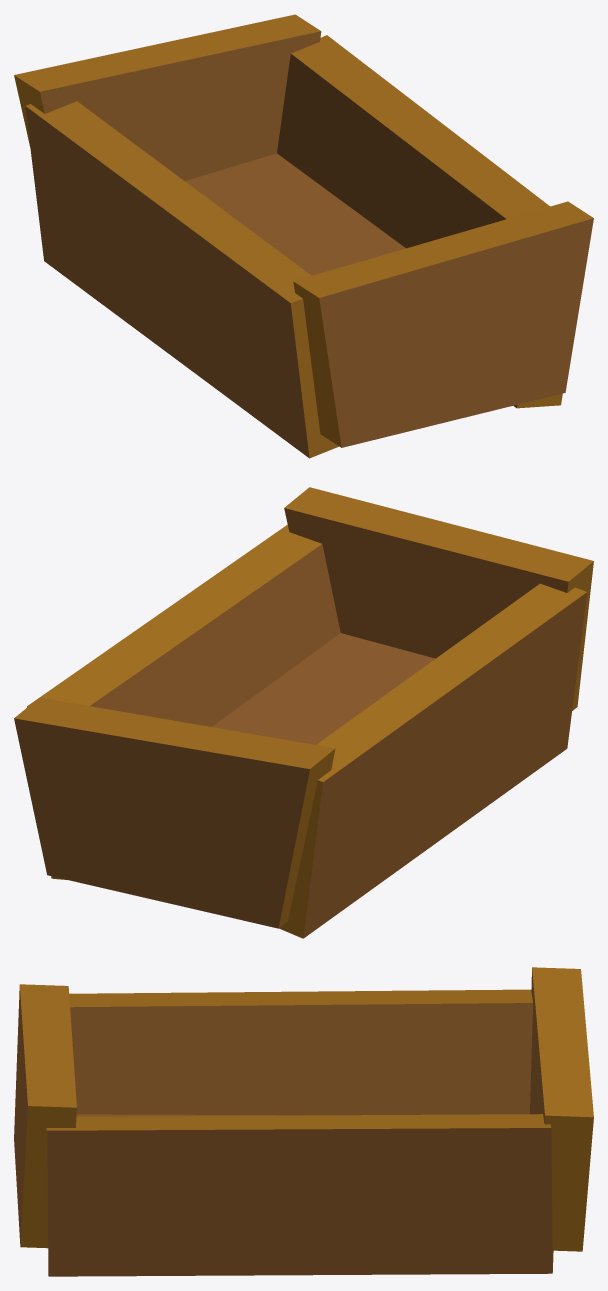
Rendered from estabulo_bebedouro.fbx.
3 views of the same model, one above another, from view 1: azimuth 30°, elevation 25°; view 2: azimuth 150°, elevation 25°; view 3: azimuth 270°, elevation 25° (orthographic). The views are drawn at different scales.
Parts seen in each view (by area): view 1: estabulo_bebedouro; view 2: estabulo_bebedouro; view 3: estabulo_bebedouro.
Part boxes in pixels (<box>): estabulo_bebedouro: <box>14,14,593,458</box>; estabulo_bebedouro: <box>14,487,593,938</box>; estabulo_bebedouro: <box>14,967,593,1276</box>.
Size of the model in its own units: 120 by 74.37 by 212.
